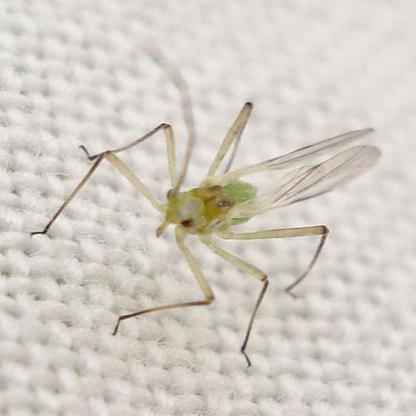aphid: (52, 64, 380, 360)
